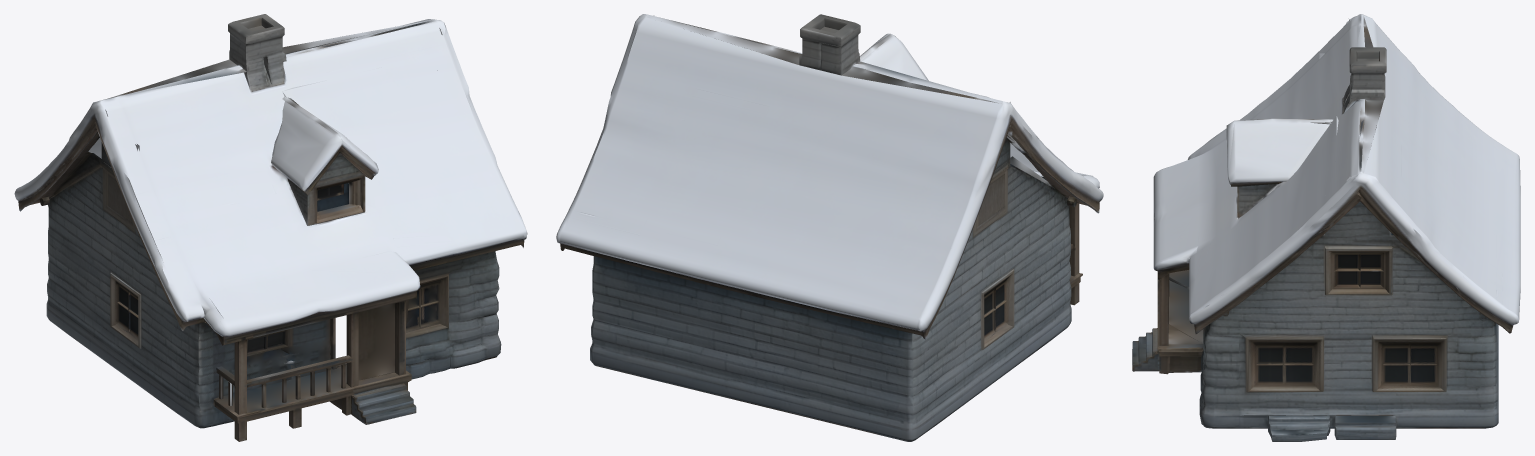
The model's file is chalet.glb.
3 views of the same model, side by side, from view 1: azimuth 30°, elevation 25°; view 2: azimuth 150°, elevation 25°; view 3: azimuth 270°, elevation 25° (orthographic). The views are drawn at different scales.
Parts seen in each view (by area): view 1: material_Material.002_0; view 2: material_Material.002_0; view 3: material_Material.002_0.
Boxes of the visible parts, x1,y1,x2,y2 form: material_Material.002_0: [14, 14, 527, 441]; material_Material.002_0: [556, 14, 1103, 441]; material_Material.002_0: [1132, 14, 1520, 441].
Size of the model in its own units: 10.72 by 9 by 10.6.
Materials: 1 (1 with a texture image).
